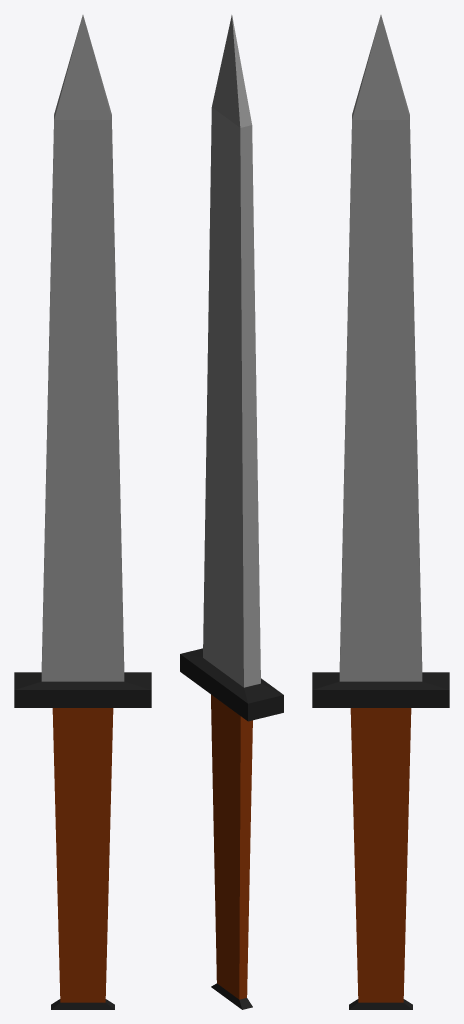
Rendered from great_sword.obj.
The picture shows the model from 3 angles, left to right: view 1: azimuth 90°, elevation 25°; view 2: azimuth 210°, elevation 25°; view 3: azimuth 270°, elevation 25°; orthographic projection.
Parts seen in each view (by area): view 1: great_sword; view 2: great_sword; view 3: great_sword.
Part boxes in pixels (x1,y1,x2,y2): great_sword: (14, 15, 151, 1009); great_sword: (180, 15, 283, 1009); great_sword: (312, 15, 449, 1009).
Size of the model in its own units: 0.0255 by 0.6668 by 0.0836.
